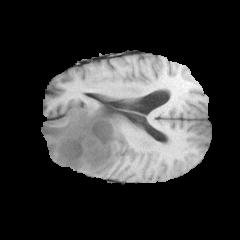glioma: (41, 102, 129, 173)
